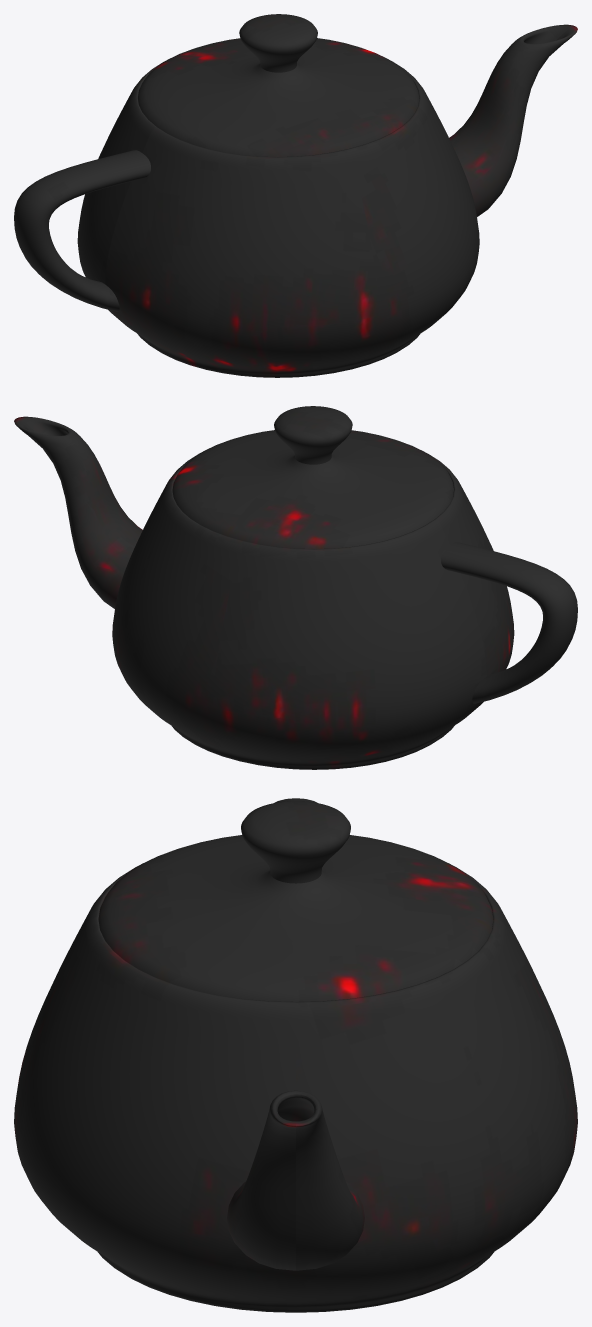
File: frame_0002.glb
The picture shows the model from 3 angles, top to bottom: view 1: azimuth 30°, elevation 25°; view 2: azimuth 150°, elevation 25°; view 3: azimuth 270°, elevation 25°; orthographic projection. The views are drawn at different scales.
Visible parts, largest first — view 1: world; view 2: world; view 3: world.
Boxes of the visible parts, bbox=[...] form: world: bbox=[14, 14, 577, 377]; world: bbox=[14, 406, 577, 769]; world: bbox=[14, 798, 577, 1312].
Bounding box in the file's own units: 1 × 0.5124 × 0.6217.
Materials: 1 (1 with a texture image).
